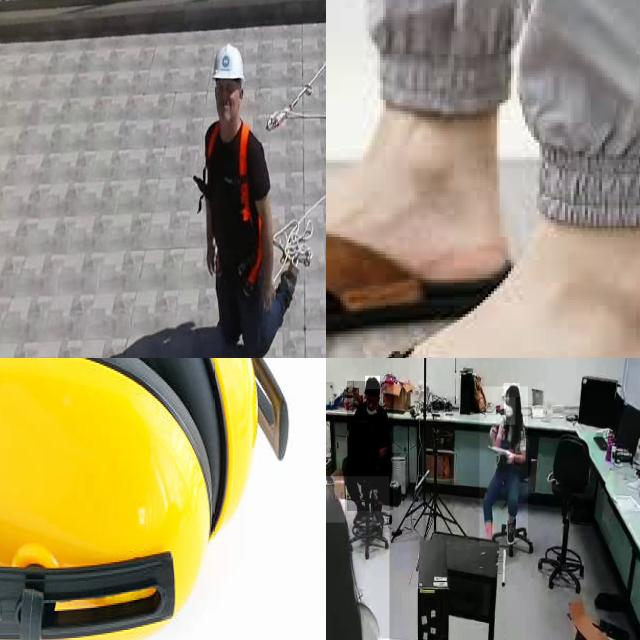Ear-protection: (0, 358, 311, 640)
Harness: (237, 123, 267, 287), (266, 60, 326, 130)
face_mask: (504, 397, 516, 425)
face_nomask: (366, 394, 378, 415)
hand_noglove: (489, 424, 497, 440), (506, 450, 514, 464)
head_nohelmet: (326, 480, 345, 523), (504, 383, 520, 398), (365, 376, 381, 390)
person: (326, 476, 390, 640), (479, 387, 528, 548), (347, 381, 394, 511)
shoes: (504, 520, 518, 547), (371, 502, 385, 528), (353, 502, 367, 526)
